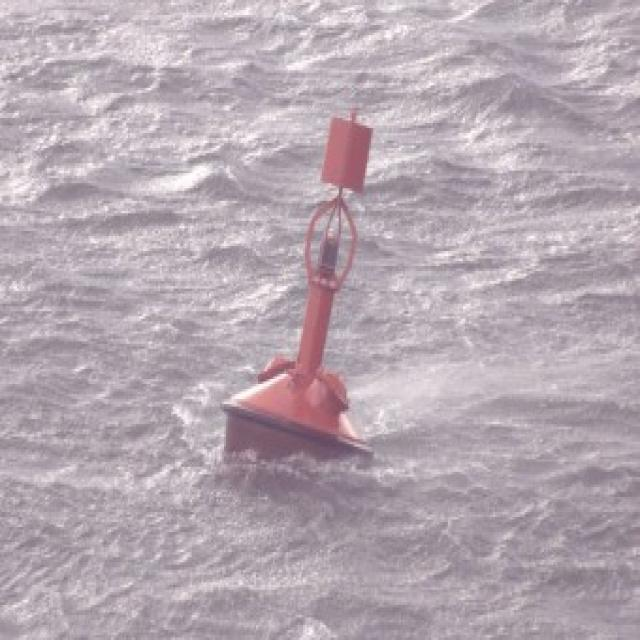marque: (211, 90, 400, 476)
